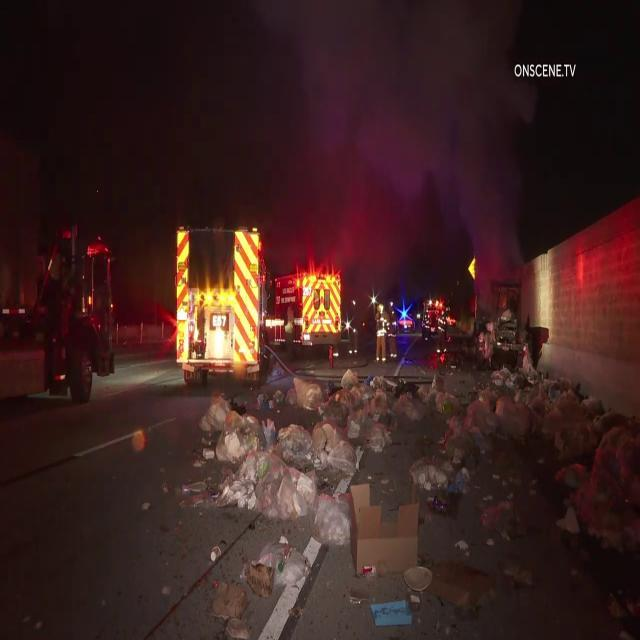Smoke: (294, 4, 548, 268)
